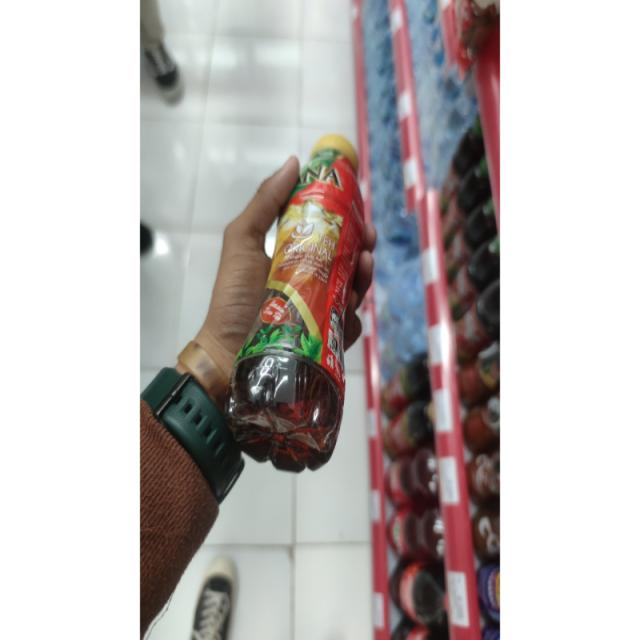botol: (246, 115, 384, 490)
